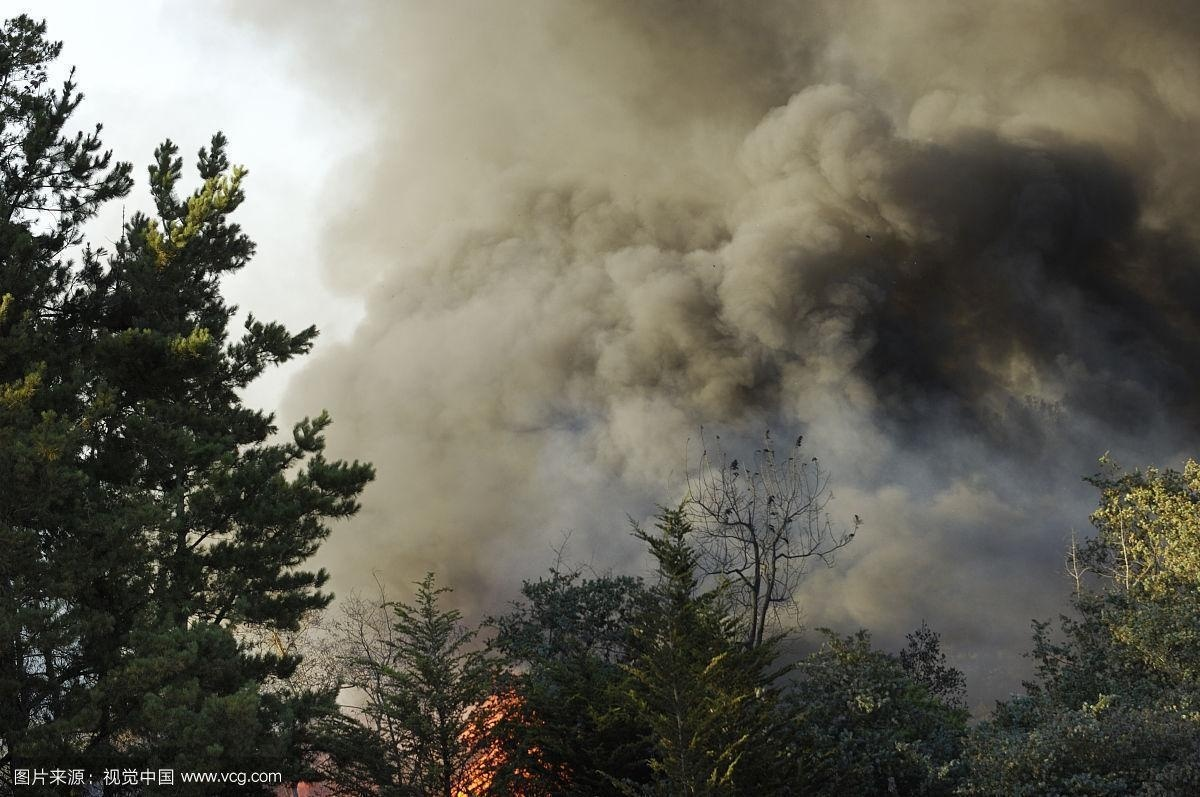fire: (447, 685, 537, 789)
